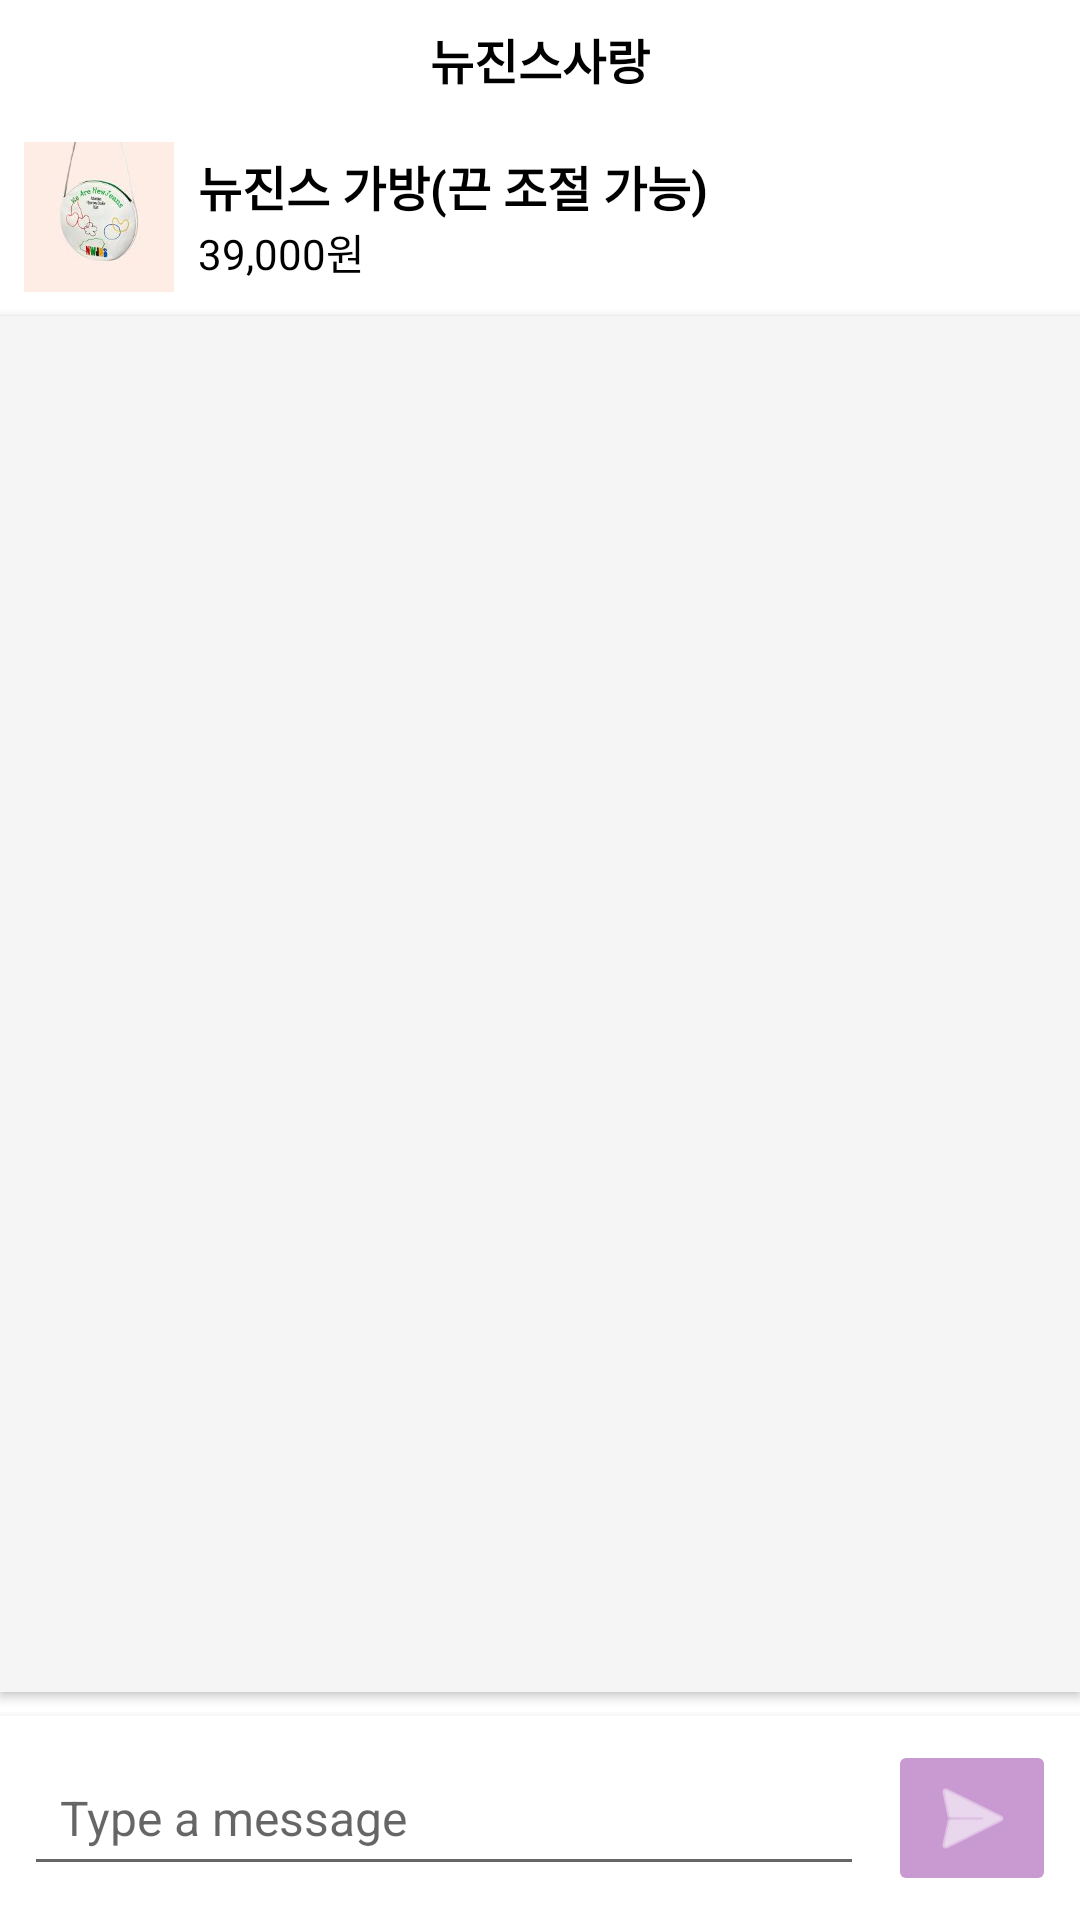

Icons on this 1080px×1920px Android screen, each with its box as (x1,y1,x2,y2):
Send Message: (900,1758,1044,1878)
